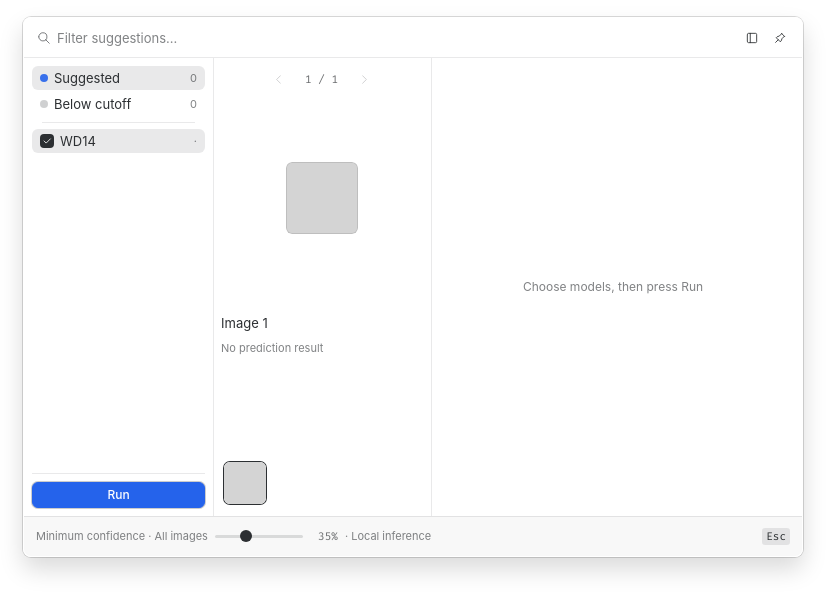
Test: AiTaggerPanel › reports the execution provider selected when the model loads
Click the button "Run": (118, 495) [32,482,205,508]
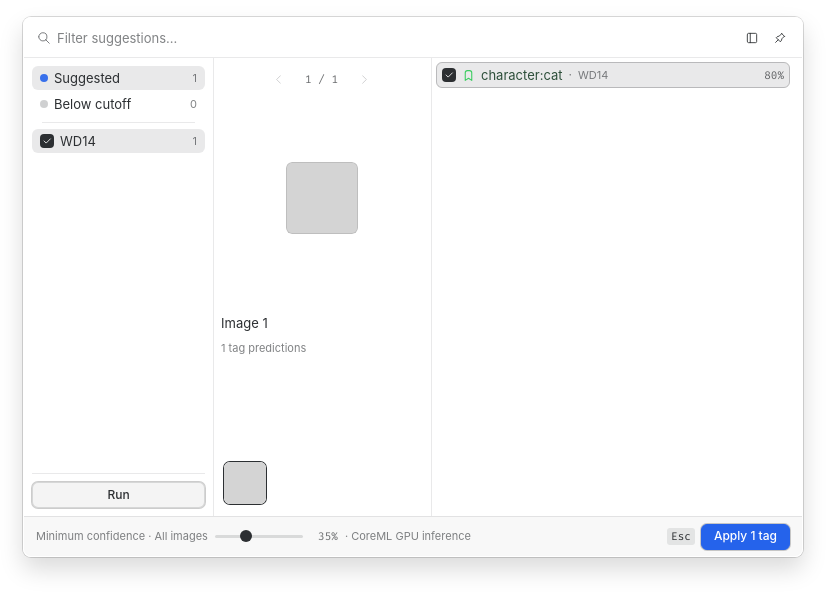
Now the text "· CoreML GPU inference" is shown, box [345,528,471,545]
